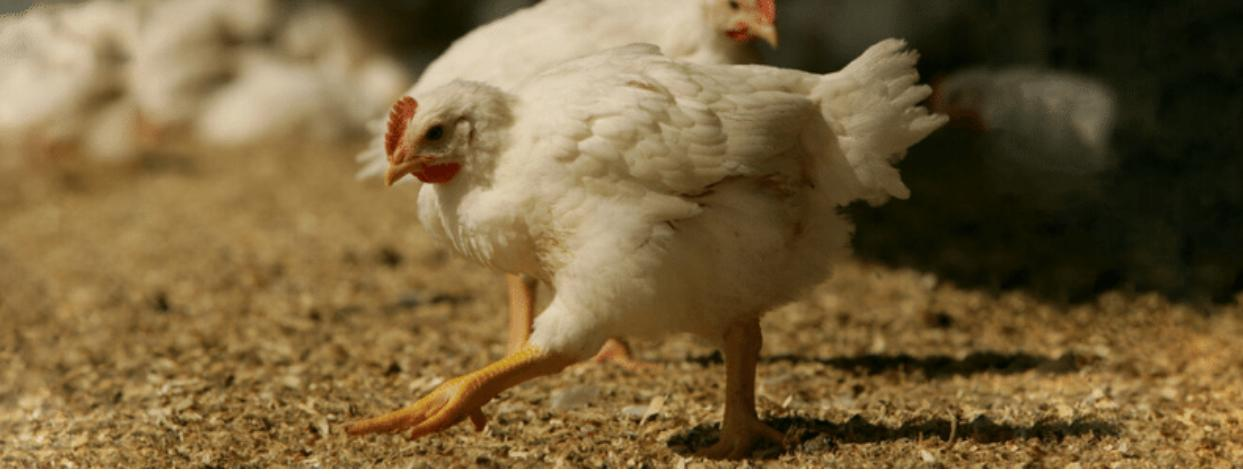AbNormal: (344, 40, 946, 453)
